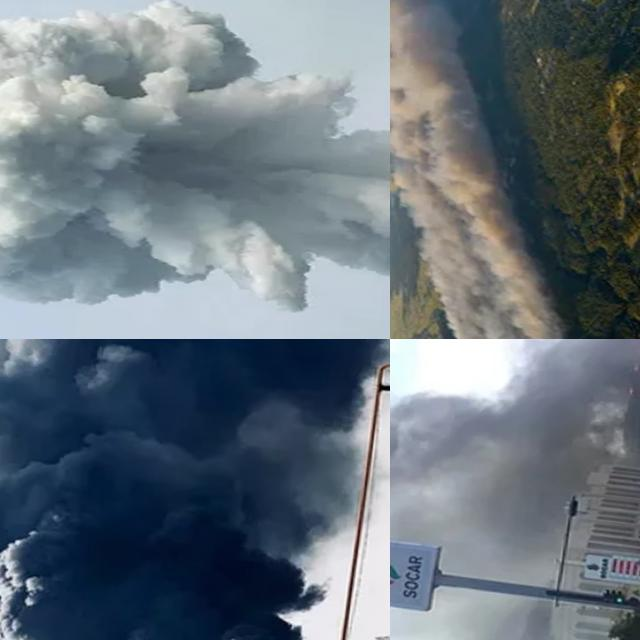smoke: (0, 0, 390, 338), (0, 339, 390, 640), (390, 0, 640, 339), (390, 339, 640, 511)
